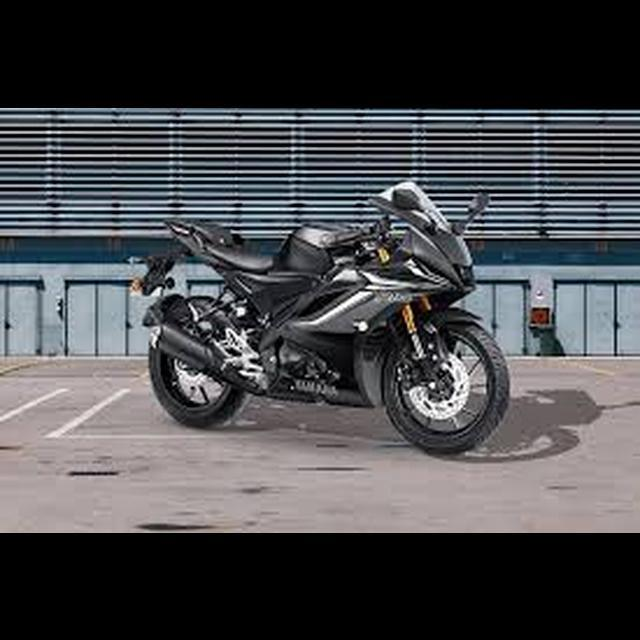motorcycle: (125, 167, 514, 460)
